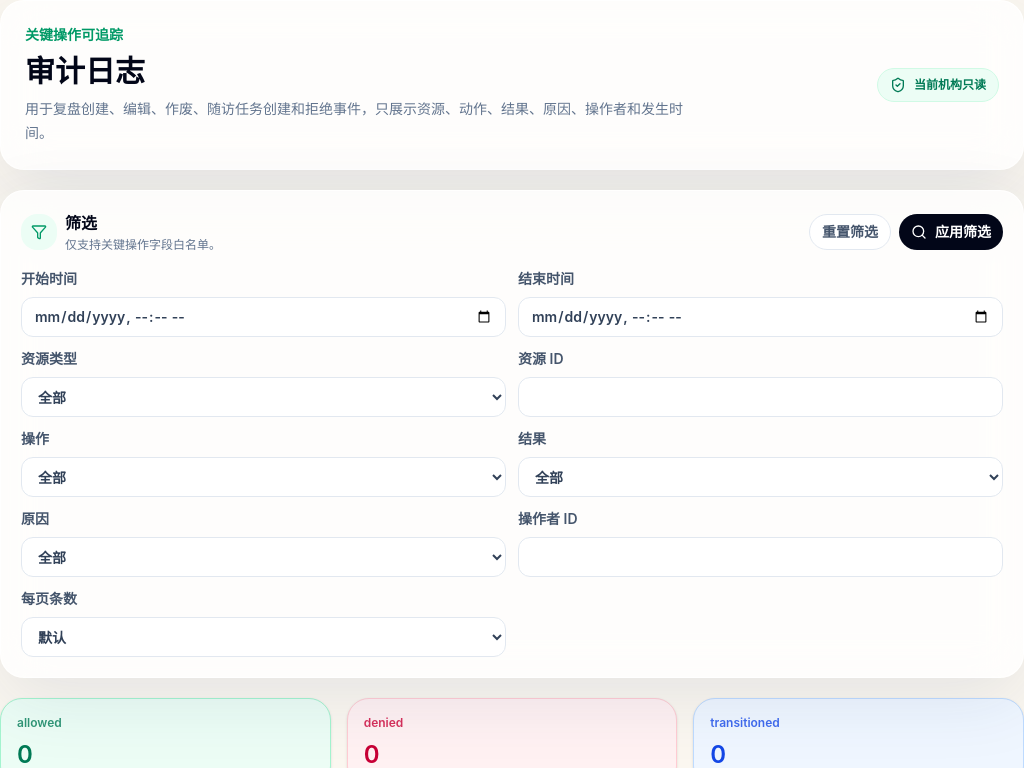
Test case: 机构业务页面壳 › 审计日志页面提供白名单筛选控件并只发送筛选参数
The width and height of the screenshot is (1024, 768).
Select "customer" in the dropdown labelled "资源类型" at (264, 397), box [21,377,506,417]
Type "cust_wang_repurchase" into the field labelled "资源 ID" at (760, 397), box [518,377,1003,417]
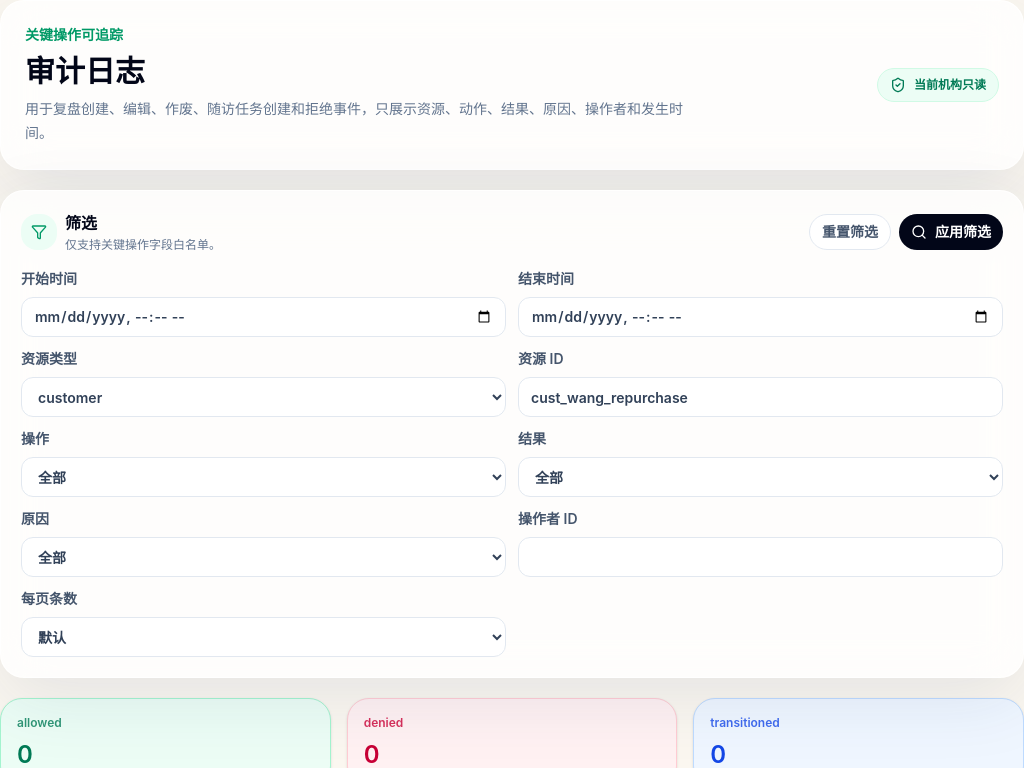
Select "update" in the dropdown labelled "操作" at (264, 477), box [21,457,506,497]
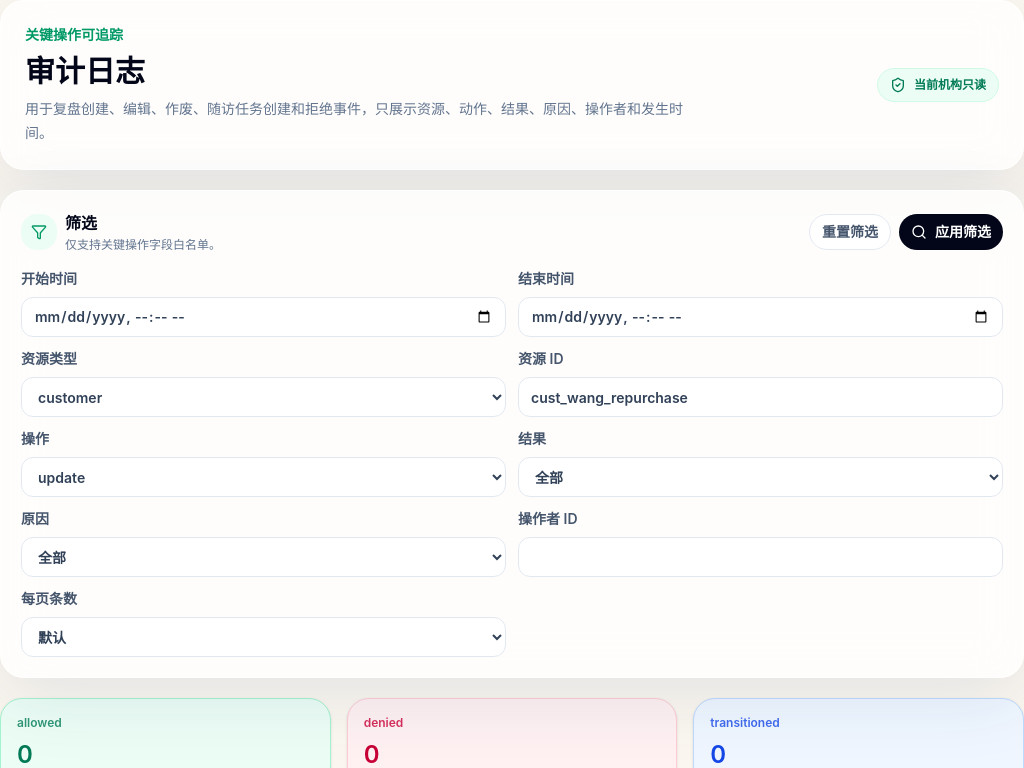
Select "allowed" in the dropdown labelled "结果" at (760, 477), box [518,457,1003,497]
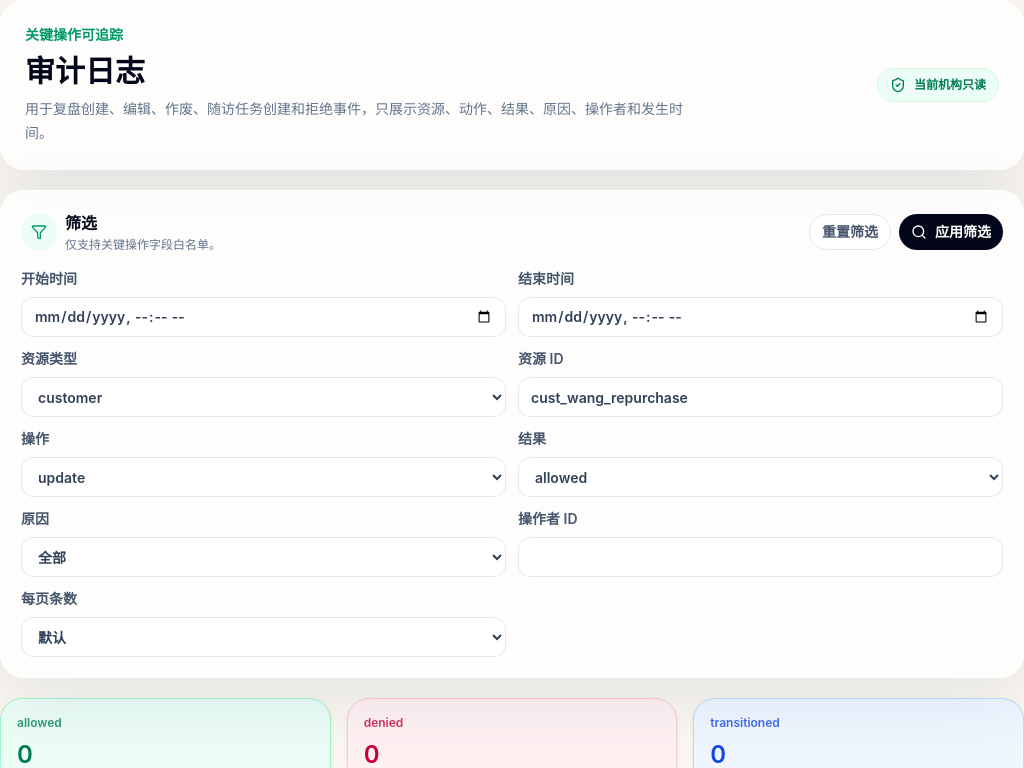
Select "allowed_by_policy" in the dropdown labelled "原因" at (264, 557), box [21,537,506,577]
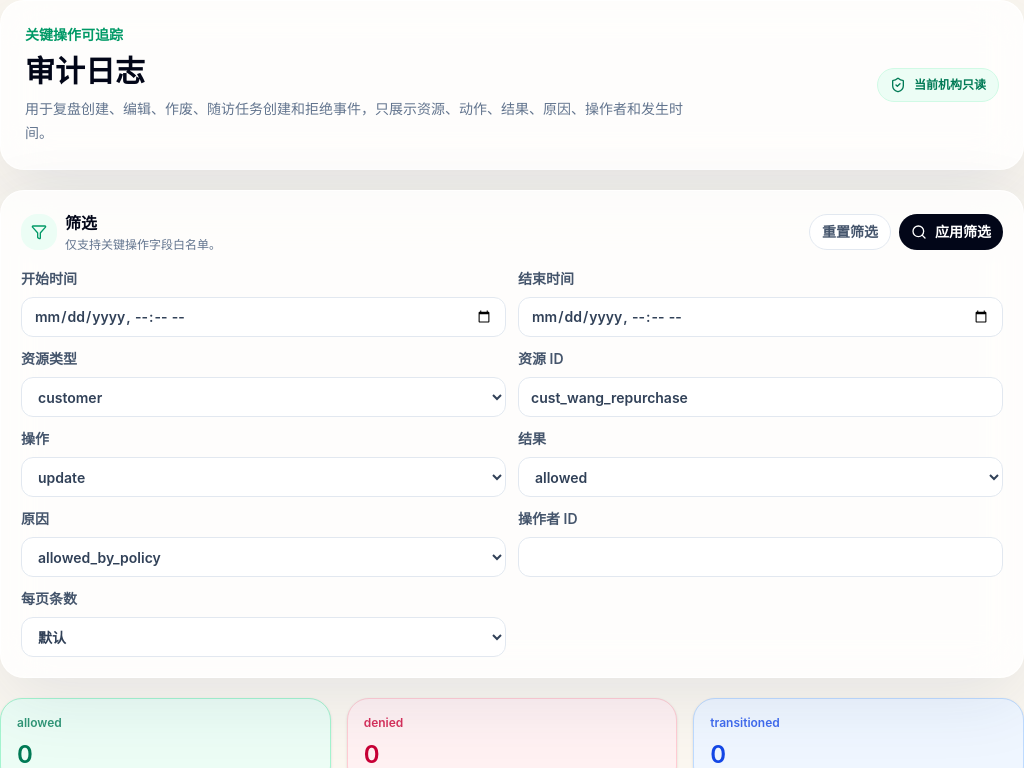
Type "demo-user-admin" into the field labelled "操作者 ID" at (760, 557), box [518,537,1003,577]
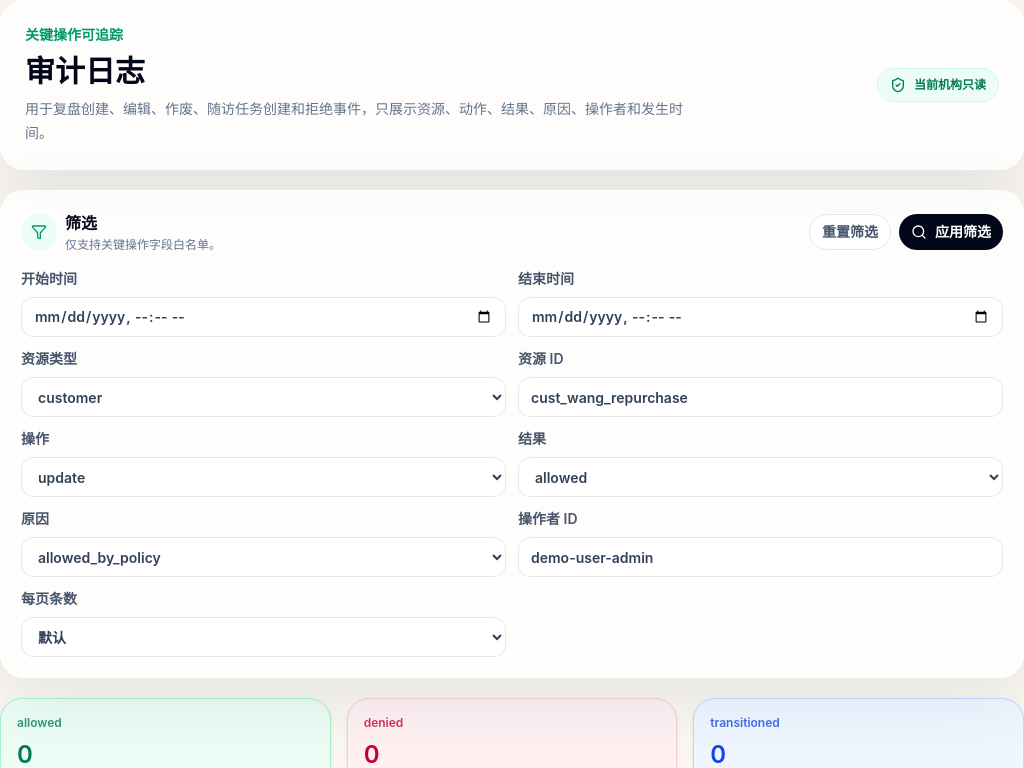
Click the button "应用筛选" at (951, 232), box [899,214,1003,250]
(page scrolled)
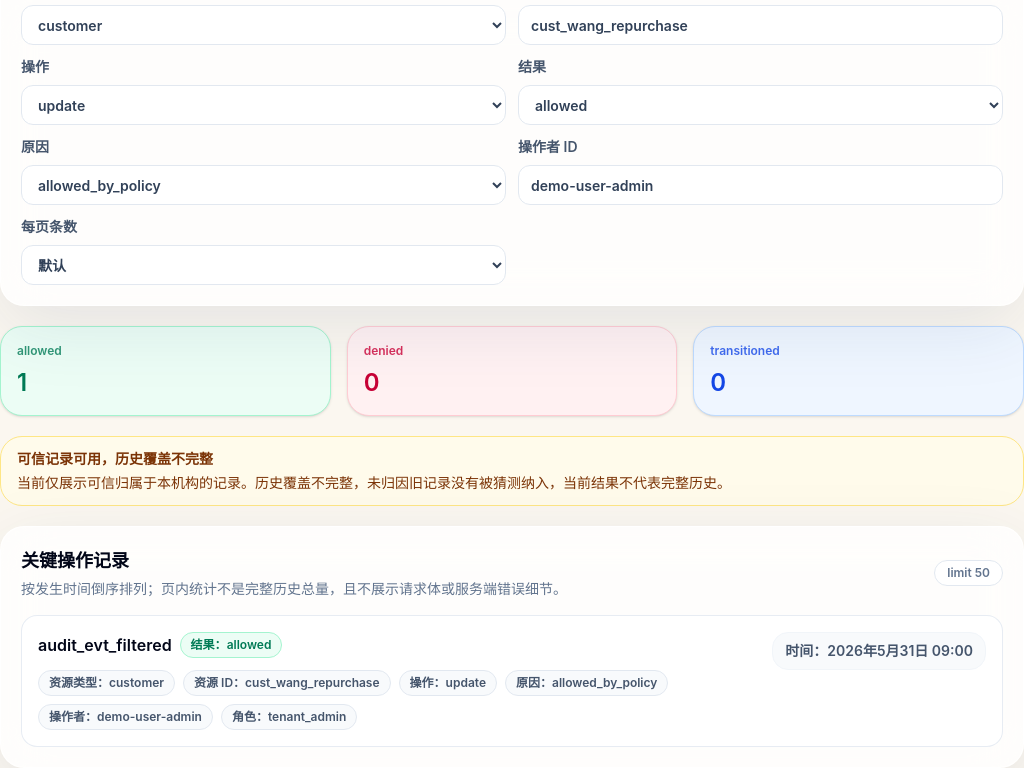
Result: the text "audit_evt_filtered" is shown at [38,633,172,657]
